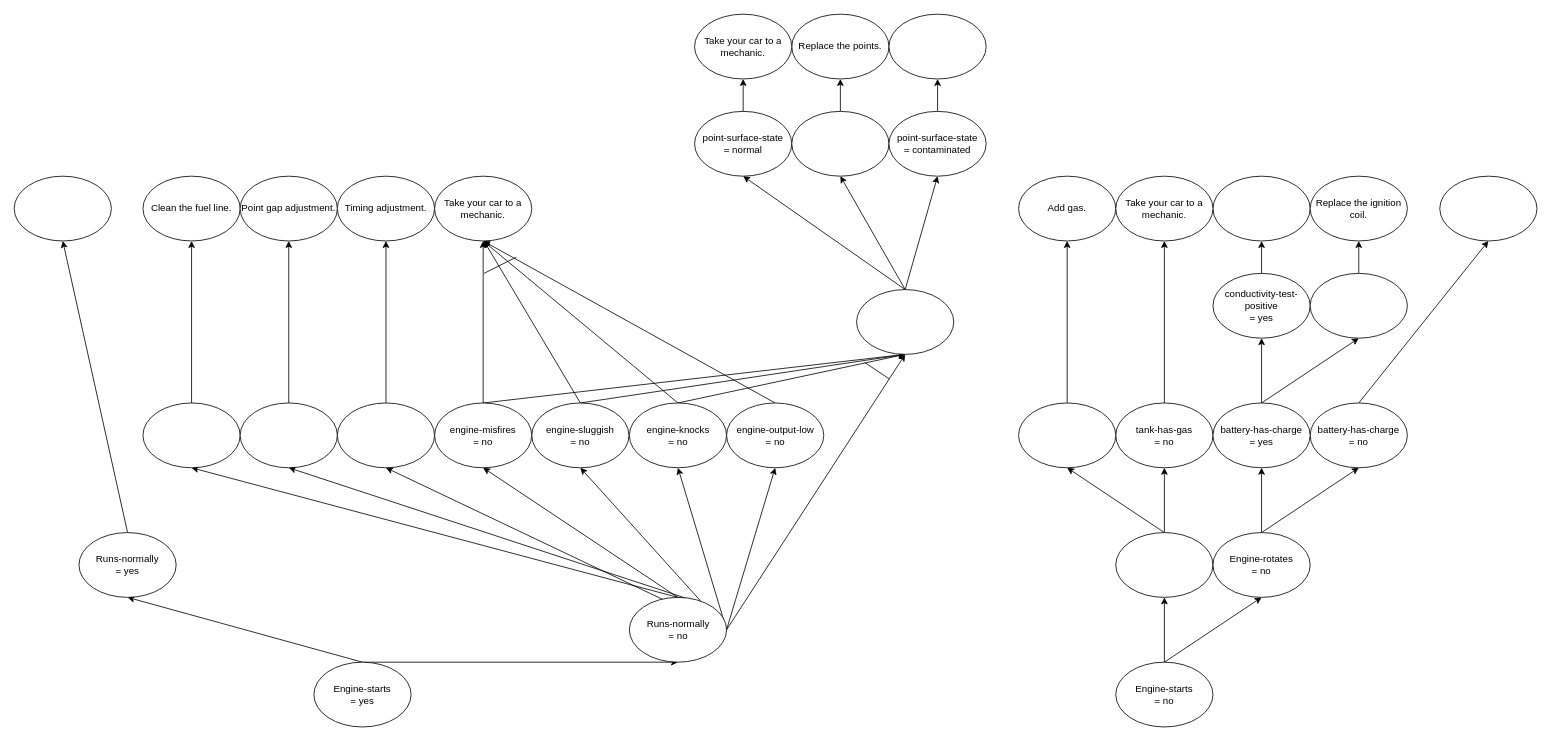
This 1551x741 diagram has some shape labels left out. The shapes that lost their labels are listed below. From the top down, each one's centre as x and y in pixels, then its label:
the point at 937,46: Clean the points.
the point at 840,143: point-surface-state = burned
the point at 62,208: No repair needed.
the point at 1261,208: Repair the distributor lead wire.
the point at 1488,208: Charge the battery.
the point at 905,321: engine-output-low = yes
the point at 1358,305: conductivity-test-positive = no
the point at 191,435: engine-sluggish = yes
the point at 288,435: engine-misfires = yes
the point at 386,435: engine-knocks = yes
the point at 1067,435: tank-has-gas = yes
the point at 1164,564: Engine-rotates = yes
